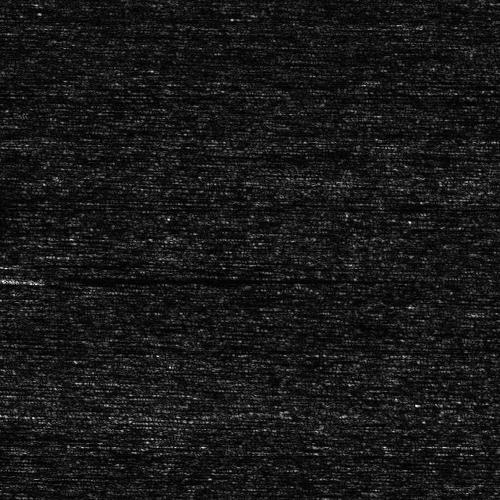object: (0, 273, 63, 282), (0, 260, 74, 267)
shadow: (6, 273, 361, 282), (27, 260, 205, 267)
